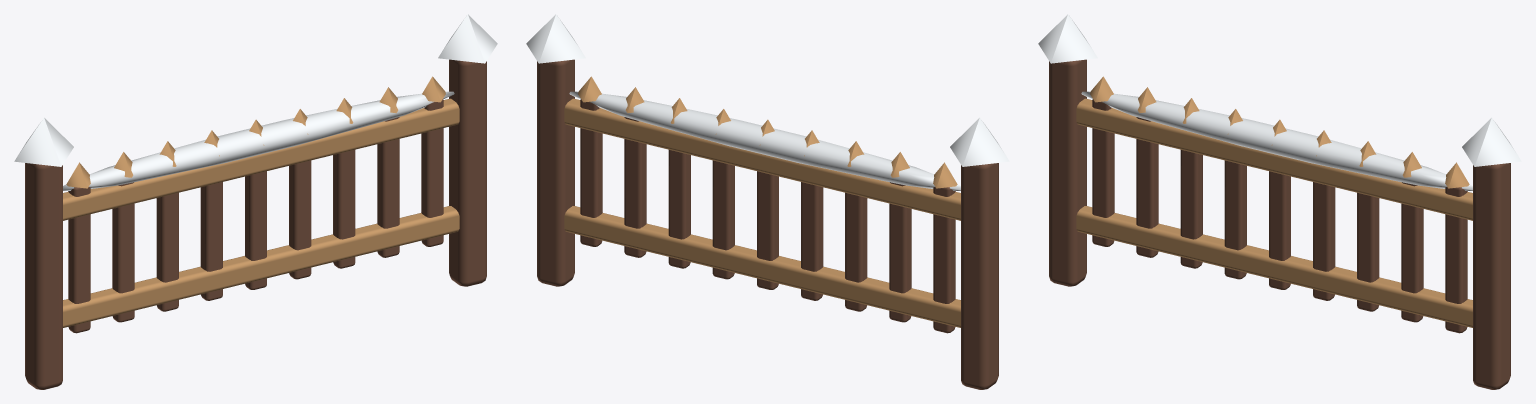
Rendered from alpine-snow-village-alpine-picket-fence-3b7bbf74__19805.glb.
3 renders of one model, left to right at view 1: azimuth 30°, elevation 25°; view 2: azimuth 150°, elevation 25°; view 3: azimuth 330°, elevation 25°, orthographic.
Parts seen in each view (by area): view 1: alpine-picket-fence-wood, alpine-picket-fence-oak, alpine-picket-fence-snow; view 2: alpine-picket-fence-wood, alpine-picket-fence-oak, alpine-picket-fence-snow; view 3: alpine-picket-fence-wood, alpine-picket-fence-oak, alpine-picket-fence-snow.
Part boxes in pixels (left/top/right/bottom): alpine-picket-fence-wood: left=25, top=59, right=486, bottom=389; alpine-picket-fence-oak: left=63, top=76, right=459, bottom=327; alpine-picket-fence-snow: left=14, top=14, right=497, bottom=190; alpine-picket-fence-wood: left=537, top=59, right=998, bottom=389; alpine-picket-fence-oak: left=564, top=76, right=960, bottom=327; alpine-picket-fence-snow: left=526, top=14, right=1009, bottom=190; alpine-picket-fence-wood: left=1049, top=59, right=1510, bottom=389; alpine-picket-fence-oak: left=1076, top=76, right=1472, bottom=327; alpine-picket-fence-snow: left=1038, top=14, right=1521, bottom=190.
Bounding box in the file's own units: 2.74 × 1.45 × 0.3398.
